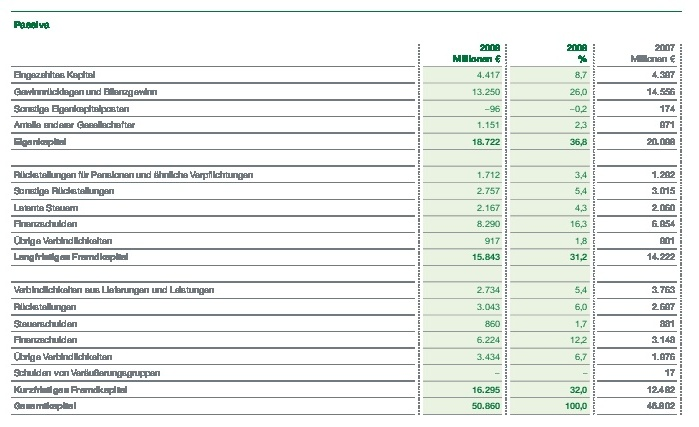table: (0, 0, 699, 427)
